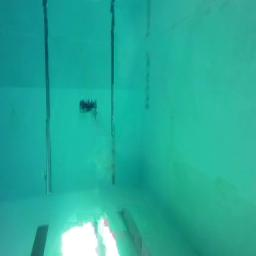Full: (80, 98, 98, 114)
